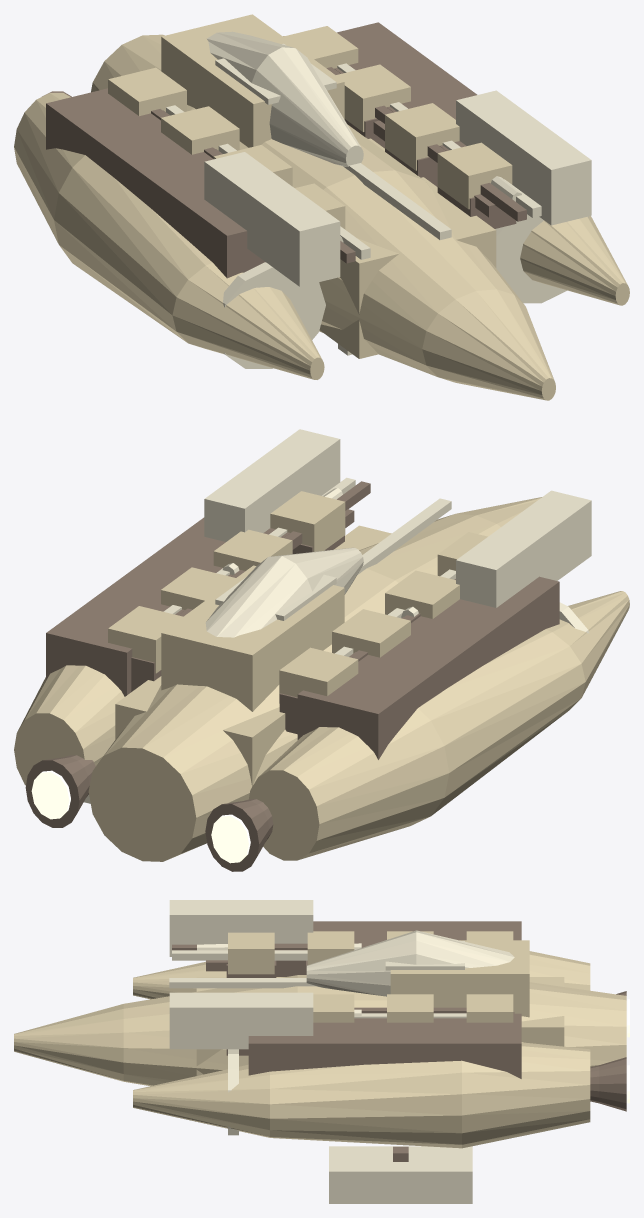
3 views of the same model, one above another, from view 1: azimuth 30°, elevation 25°; view 2: azimuth 150°, elevation 25°; view 3: azimuth 270°, elevation 25° (orthographic). The views are drawn at different scales.
Size of the model in its own units: 14.57 by 8.64 by 24.8.
